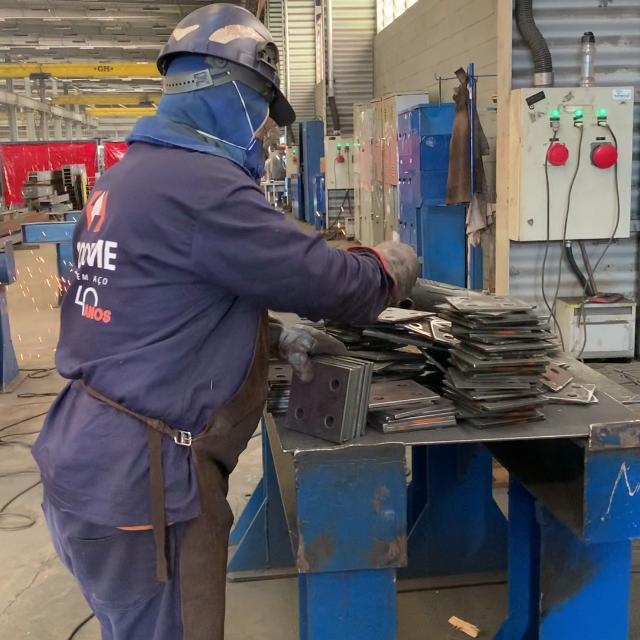face-shield: (376, 241, 420, 308)
mask: (34, 1, 423, 611), (153, 2, 297, 129)
